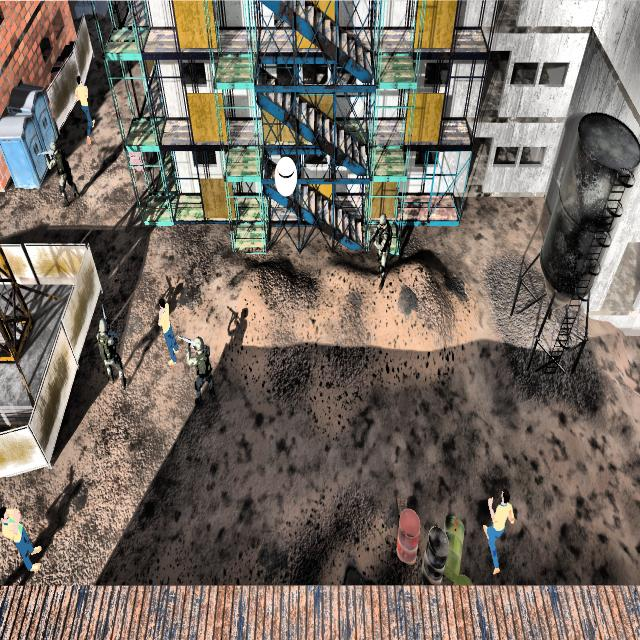bad: (45, 127, 82, 216), (93, 312, 128, 396), (366, 204, 396, 290), (188, 325, 217, 411)
good: (474, 462, 516, 583), (0, 490, 44, 580), (154, 284, 184, 378), (73, 70, 103, 145)
